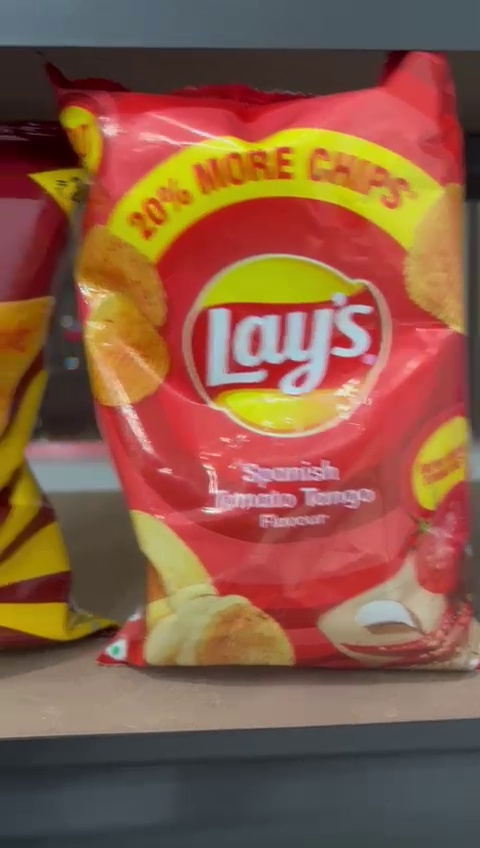Lays: (56, 84, 480, 680)
